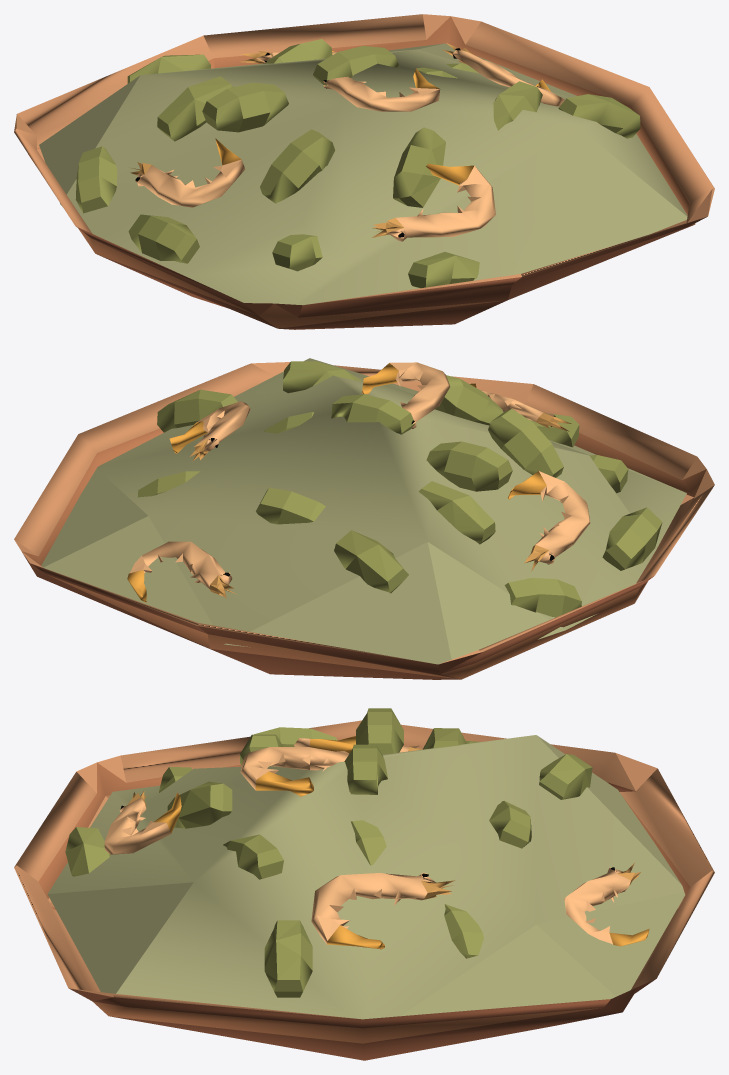
Rendered from Fried shrimp with rice.glb.
The picture shows the model from 3 angles, top to bottom: view 1: azimuth 30°, elevation 25°; view 2: azimuth 150°, elevation 25°; view 3: azimuth 270°, elevation 25°; orthographic projection. The views are drawn at different scales.
Parts seen in each view (by area): view 1: FiredBowl; view 2: FiredBowl; view 3: FiredBowl.
Boxes of the visible parts, x1,y1,x2,y2 form: FiredBowl: (14, 14, 714, 329); FiredBowl: (14, 358, 714, 679); FiredBowl: (14, 708, 714, 1060).
Size of the model in its own units: 0.2508 by 0.1041 by 0.2482.
